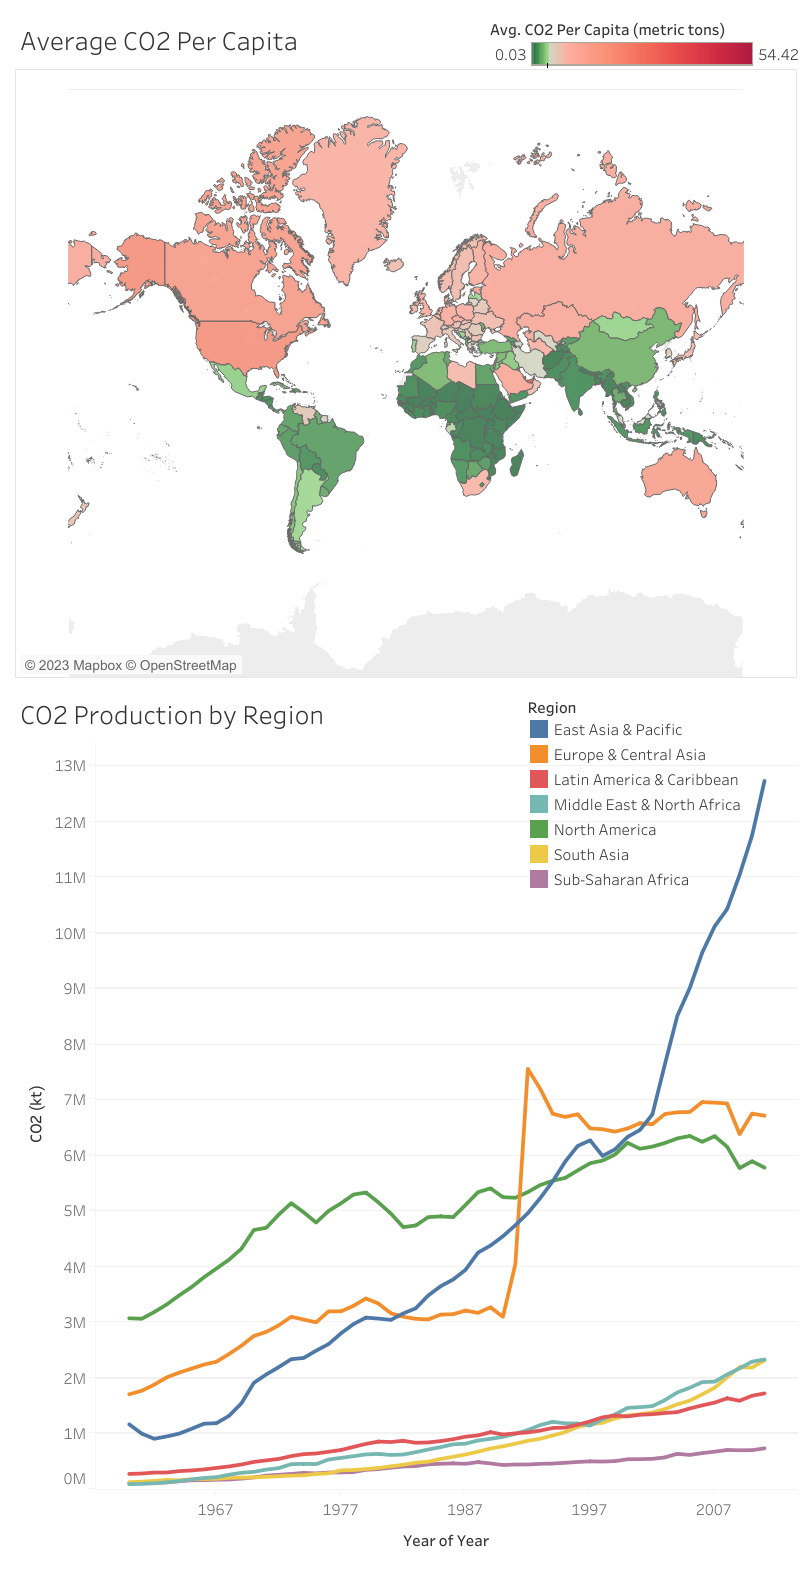

What the dashboard file says about the page in this screenshot:
{"tool":"tableau","page":{"name":"Dashboard 1","canvas":[1000,1000],"units":"permille","ordinal":0},"visuals":[{"type":"worksheet","title":"Sheet 1","mark":"Automatic","box":[12.3,6.4,975.4,427.8]},{"type":"legend","title":"Sheet 1","param":"[federated.1csebbg00kug441gxrxfd09dh1ok].[avg:CO2 Per Capita (metric tons):qk]","box":[603.1,7.9,387.7,70.6]},{"type":"worksheet","title":"Sheet 2","mark":"Automatic","rows":["CO2 (kt)"],"cols":["Year"],"box":[12.3,434.1,975.4,559.5]},{"type":"legend","title":"Sheet 2","param":"[federated.1csebbg00kug441gxrxfd09dh1ok].[none:Region:nk]","box":[647.7,439.7,340,210.3]}]}

Visuals, with their boxes on the dashboard's canvas, which has no fixed pixel size, in thousandths of its width and height (x1, y1, x2, y2). These are canvas units, not pixel positions in the 811x1574 screenshot, which may show the page scaled, cropped or inside an application window:
"Sheet 1" worksheet: locate(12, 6, 988, 434)
"Sheet 1" legend: locate(603, 8, 991, 78)
"Sheet 2" worksheet: locate(12, 434, 988, 994)
"Sheet 2" legend: locate(648, 440, 988, 650)
